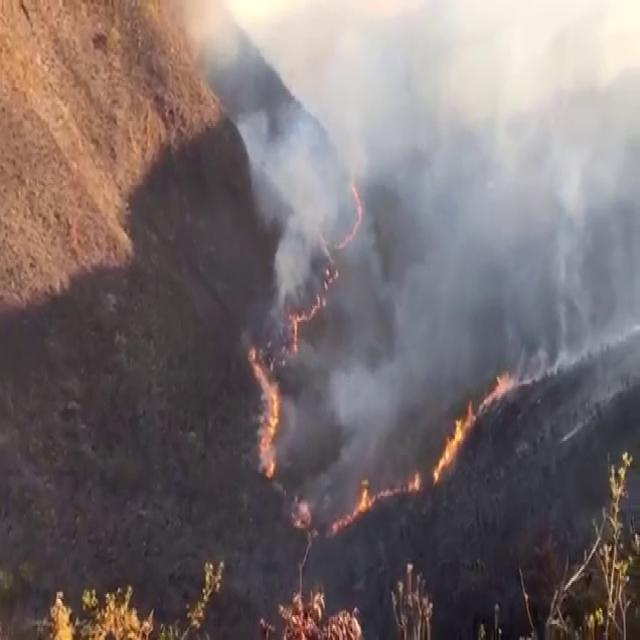Fire: (432, 376, 514, 484), (324, 469, 419, 534), (250, 338, 280, 476), (336, 183, 362, 251), (292, 299, 323, 345), (558, 417, 586, 443)
Smoke: (323, 359, 404, 466), (270, 110, 326, 216), (276, 203, 326, 310), (186, 2, 245, 84), (552, 223, 574, 370), (236, 104, 266, 190), (553, 153, 585, 230), (570, 255, 596, 342), (278, 394, 304, 468)
